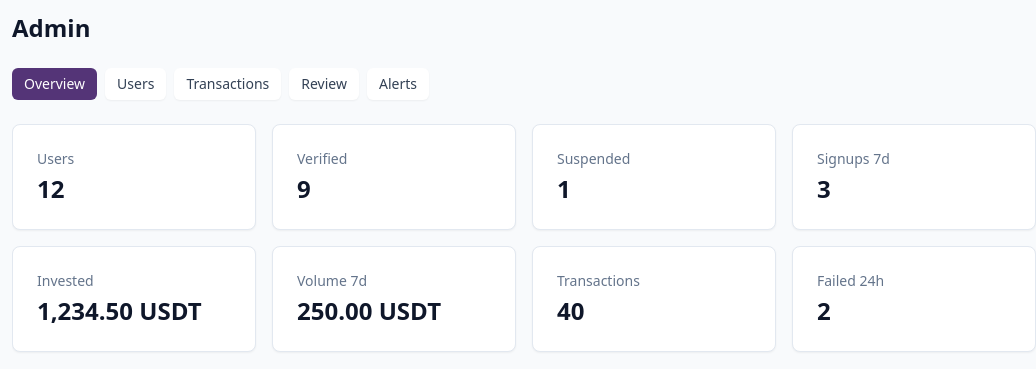
Admin console › shows platform stats and the user list
Expected: the element with test id "admin-overview" shows "12", left=37, top=172, right=64, bottom=205
Click the button "Users". click: click(136, 84)
box: left=105, top=68, right=166, bottom=100
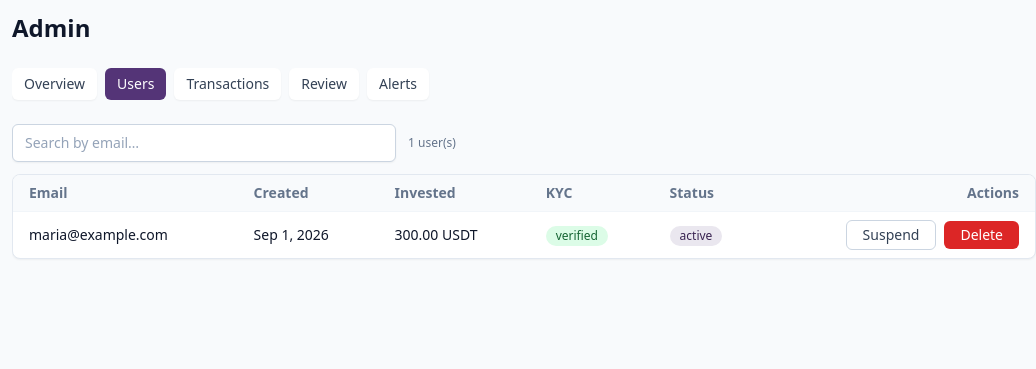
Expected: the table with test id "admin-users" shows "maria@example.com", left=29, top=225, right=168, bottom=244
